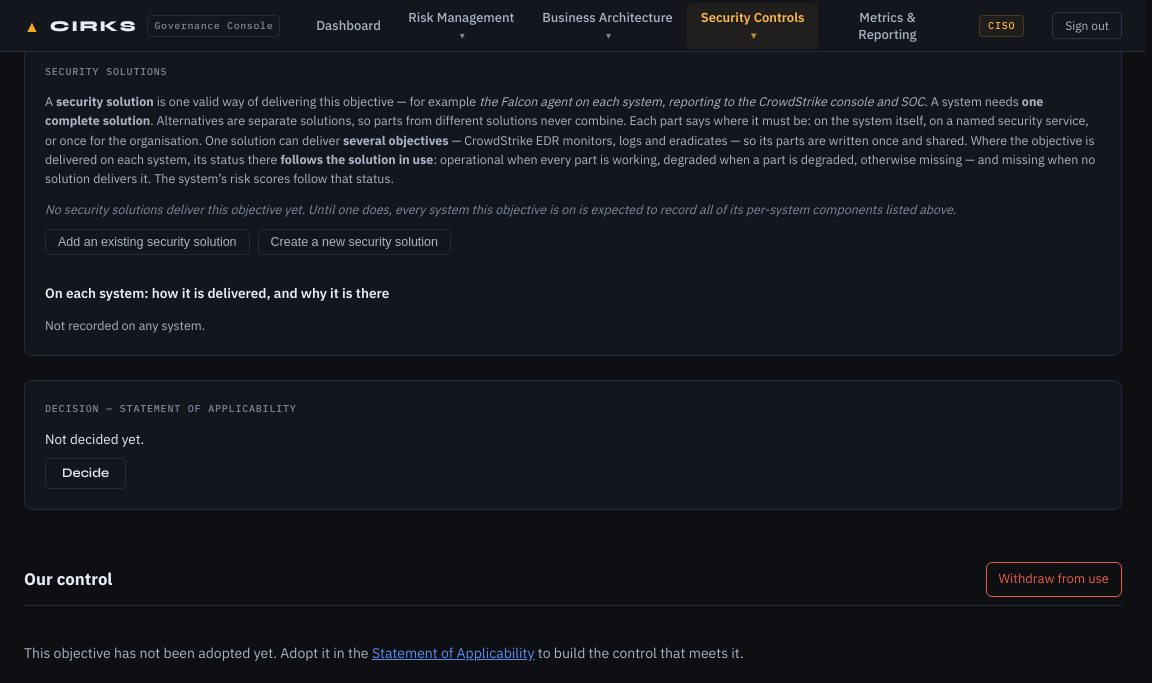
the decision is made on the objective page › saying it does not apply needs a reason
(page scrolled)
Click the button "Decide".
click(86, 474)  # box [45,458,126,489]
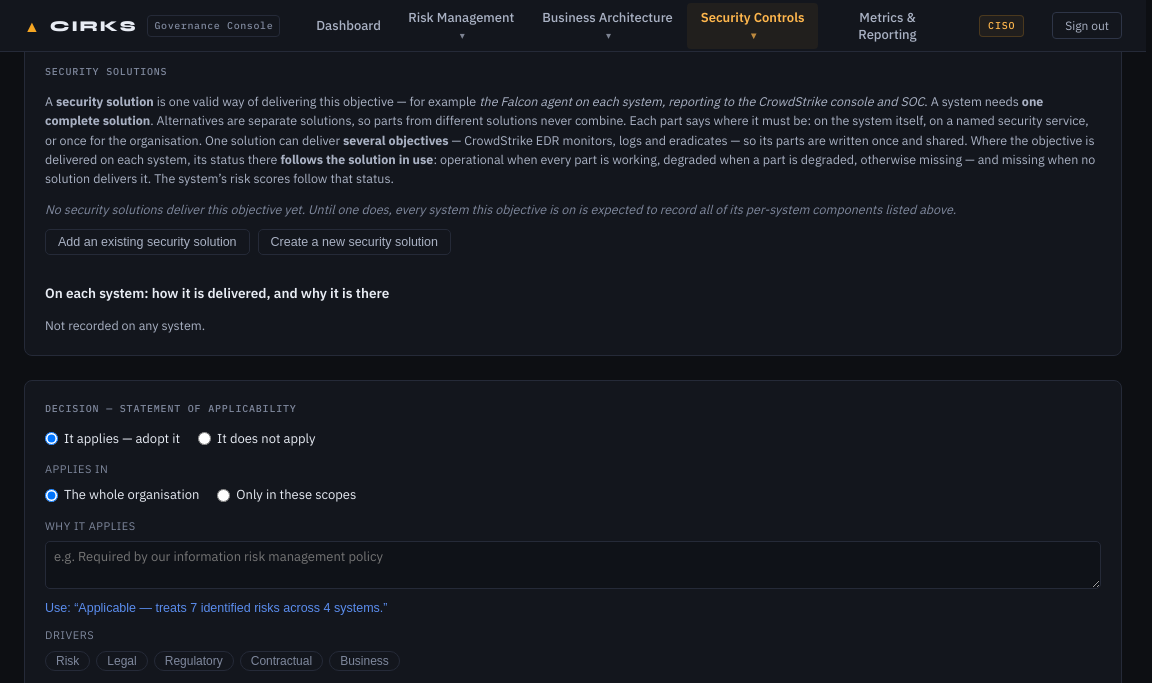
Click the radio button labelled "It does not apply".
click(205, 439)  # box [198,432,211,445]
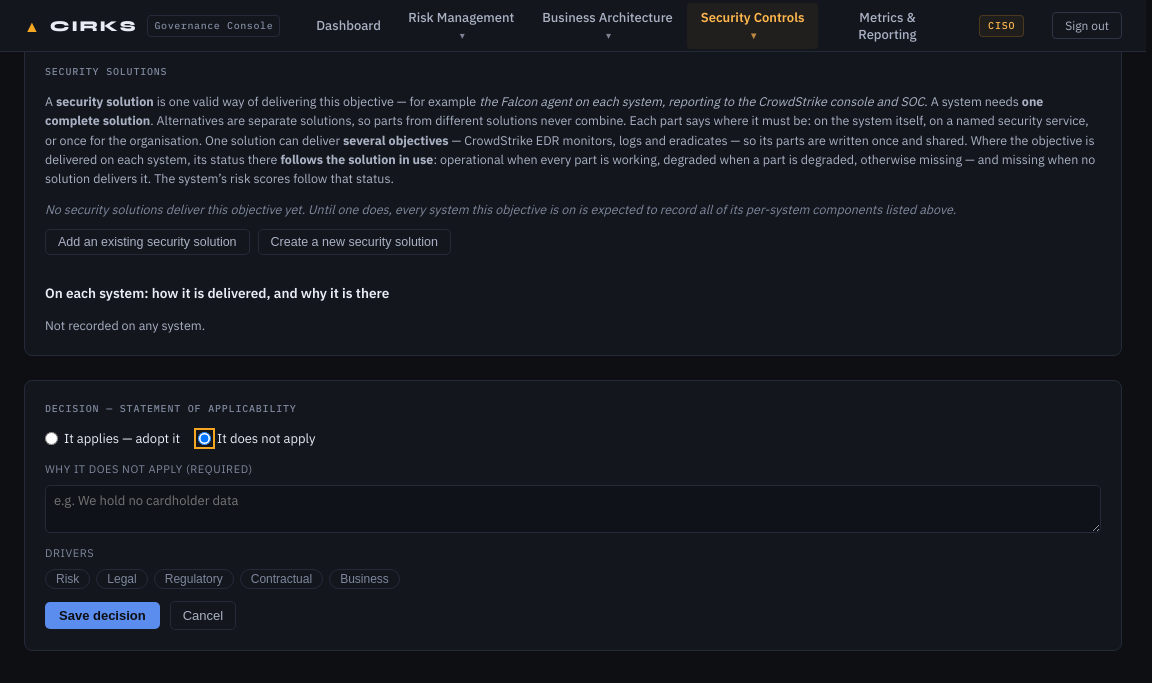
Click the button "Save decision".
click(102, 615)  # box [45,602,160,628]
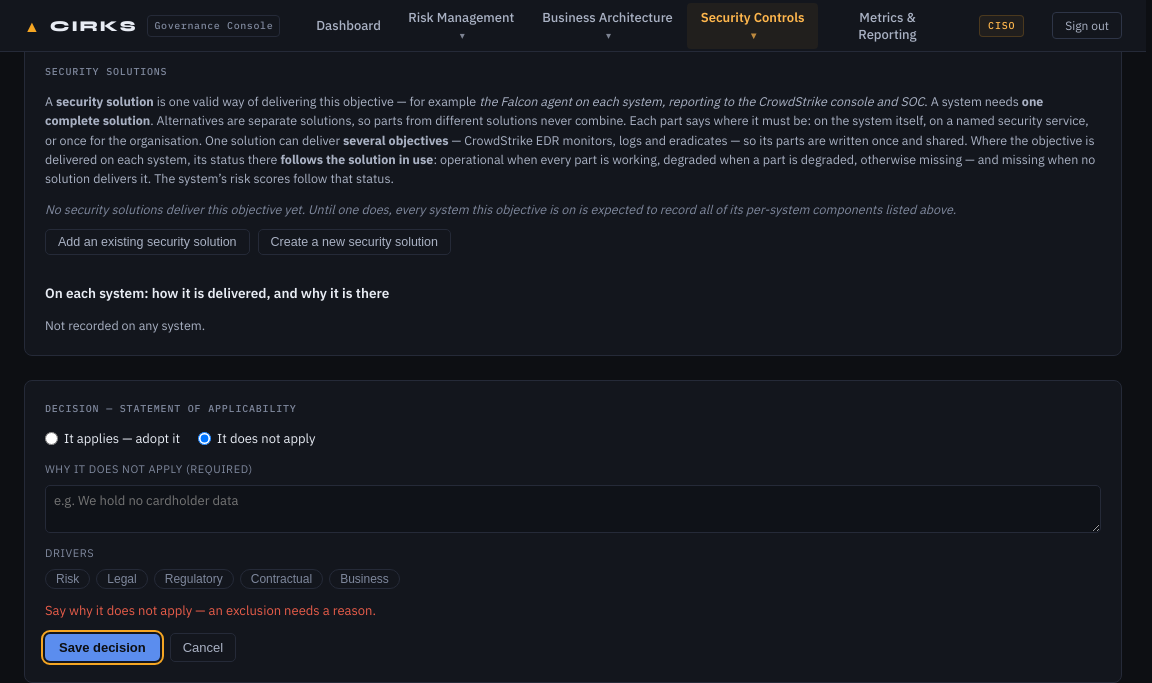
Expected: the message shows "needs a reason", [45,602,376,618]
